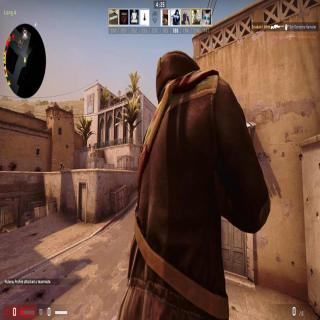CT-Body: (60, 162, 64, 170)
CT-Head: (60, 163, 63, 166)
